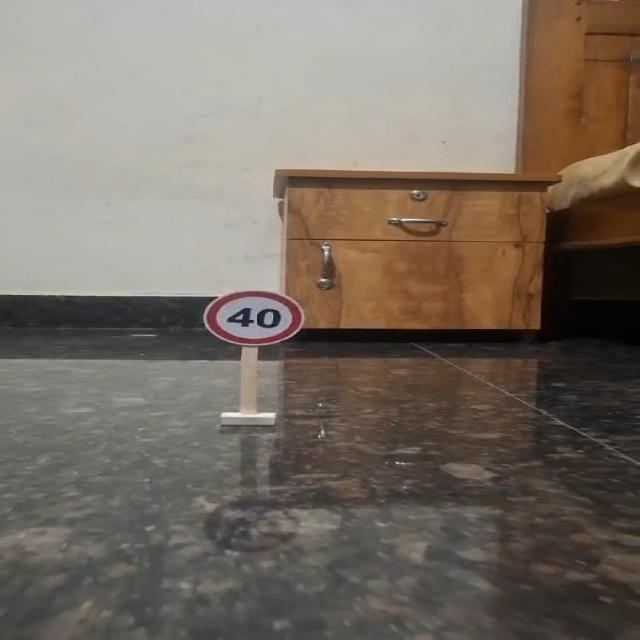Speed40: (200, 288, 308, 348)
